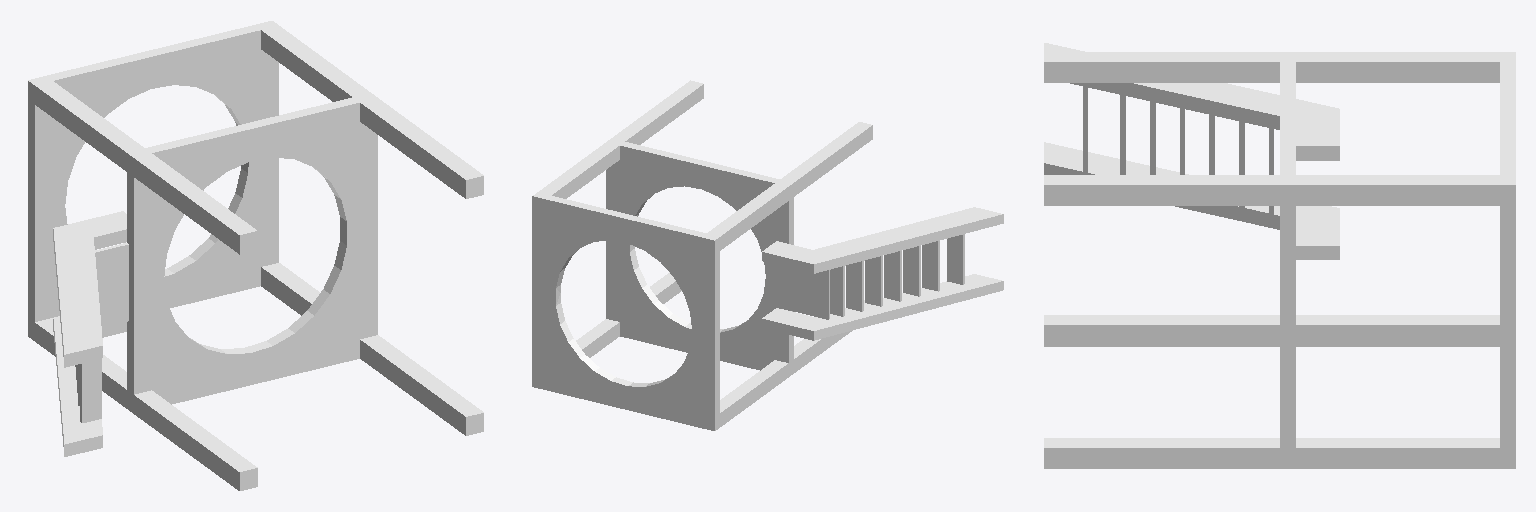
The robot description file, URDF, robot "lou_ti":
<robot
  name="lou_ti">
  <link
    name="lou_ti">
    <inertial>
      <origin
        xyz="-0.65283 0.36146 4.78119999997787E-06"
        rpy="0 0 0" />
      <mass
        value="6953.7" />
      <inertia
        ixx="35952.4110296362"
        ixy="7698.33271612982"
        ixz="-0.0591861612822522"
        iyy="41152.4360319083"
        iyz="0.0135821208660171"
        izz="48241.0849823365" />
    </inertial>
    <visual>
      <origin
        xyz="0 0 0"
        rpy="1.5707963267949 0 0" />
      <geometry>
        <mesh
          filename="package://lou_ti/meshes/lou_ti.STL" />
      </geometry>
      <material
        name="">
        <color
          rgba="1 1 1 1" />
      </material>
    </visual>
    <collision>
      <origin
        xyz="0 0 0"
        rpy="1.5707963267949 0 0" />
      <geometry>
        <mesh
          filename="package://lou_ti/meshes/lou_ti.STL" />
      </geometry>
    </collision>
  </link>
</robot>

--- Render facts (derived) ---
Views: 3 orthographic renders of the robot side by side, from view 1: azimuth 30°, elevation 25°; view 2: azimuth 150°, elevation 25°; view 3: azimuth 270°, elevation 25°.
Model lou_ti with 1 links and 0 joints (none), rooted at lou_ti, posed all joints at 0.
Links seen in each view (by area): view 1: lou_ti; view 2: lou_ti; view 3: lou_ti.
Link boxes in pixels (x1,y1,x2,y2): lou_ti: (28, 21, 483, 490); lou_ti: (532, 80, 1003, 430); lou_ti: (1044, 43, 1515, 468).
Size in the robot's own frame: 6.86 by 6 by 4 metres.
Meshes: 1 distinct files referenced, 1 mesh visuals loaded (1 binary STL).
